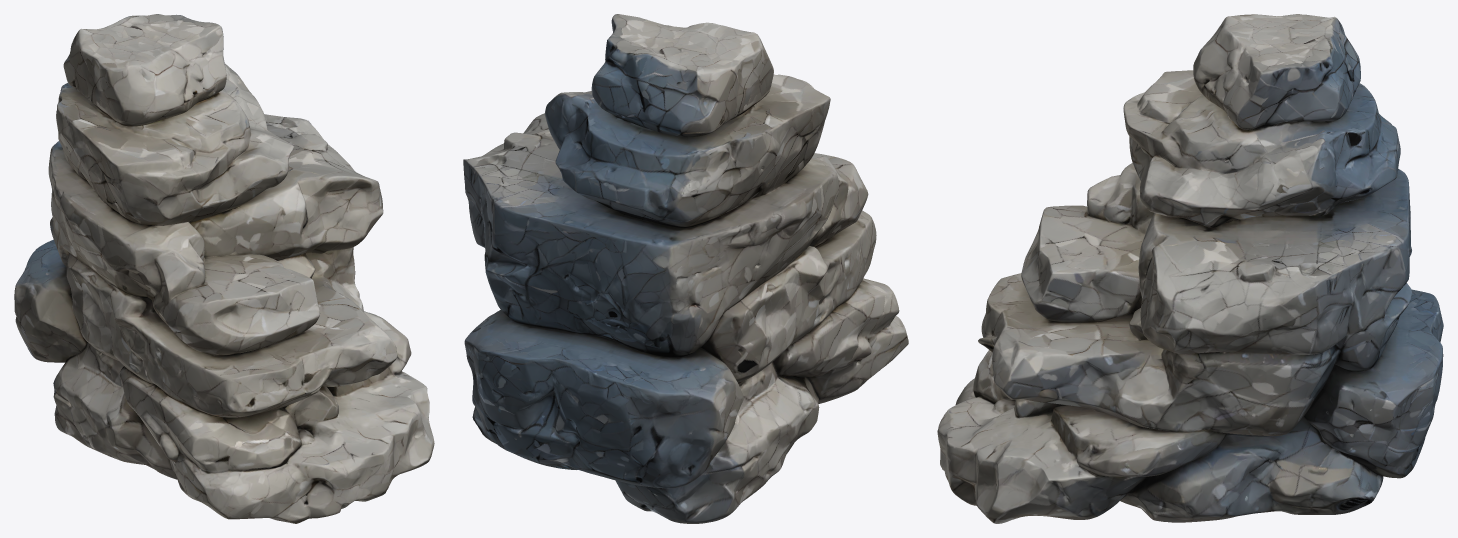
File: nature-rock-slate.glb
3 renders of one model, left to right at view 1: azimuth 30°, elevation 25°; view 2: azimuth 150°, elevation 25°; view 3: azimuth 270°, elevation 25°, orthographic. The views are drawn at different scales.
Visible parts, largest first — view 1: tripo_node_de6d43a7-5475-4f31-8331-cfe1b899c62a; view 2: tripo_node_de6d43a7-5475-4f31-8331-cfe1b899c62a; view 3: tripo_node_de6d43a7-5475-4f31-8331-cfe1b899c62a.
Part boxes in pixels (<box>): tripo_node_de6d43a7-5475-4f31-8331-cfe1b899c62a: <box>14,14,434,523</box>; tripo_node_de6d43a7-5475-4f31-8331-cfe1b899c62a: <box>463,14,908,523</box>; tripo_node_de6d43a7-5475-4f31-8331-cfe1b899c62a: <box>937,14,1443,523</box>.
Bounding box in the file's own units: 1.48 × 2 × 2.06.
Materials: 1 (1 with a texture image).
